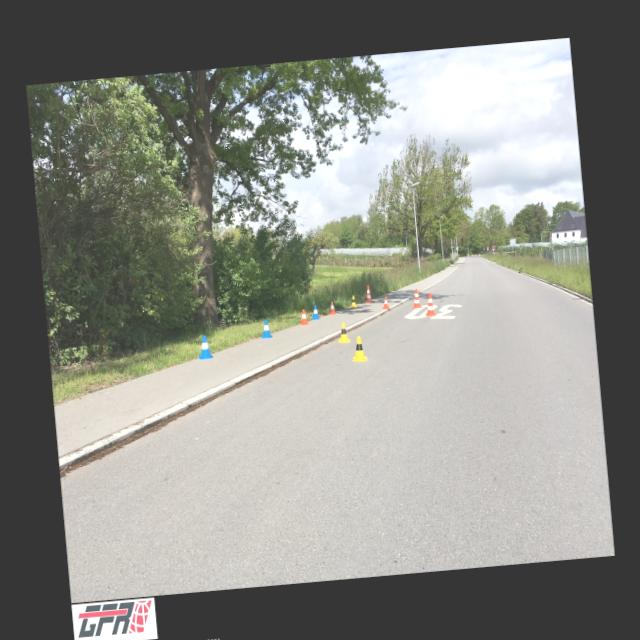blue_cone: (197, 334, 213, 359), (259, 318, 272, 338), (311, 304, 320, 320)
large_orange_cone: (423, 292, 436, 316), (410, 288, 422, 308), (364, 284, 372, 302)
orange_cone: (298, 308, 308, 325), (328, 301, 337, 315), (381, 296, 389, 308)
yellow_cone: (350, 334, 367, 362), (336, 322, 351, 342), (350, 295, 357, 307)
